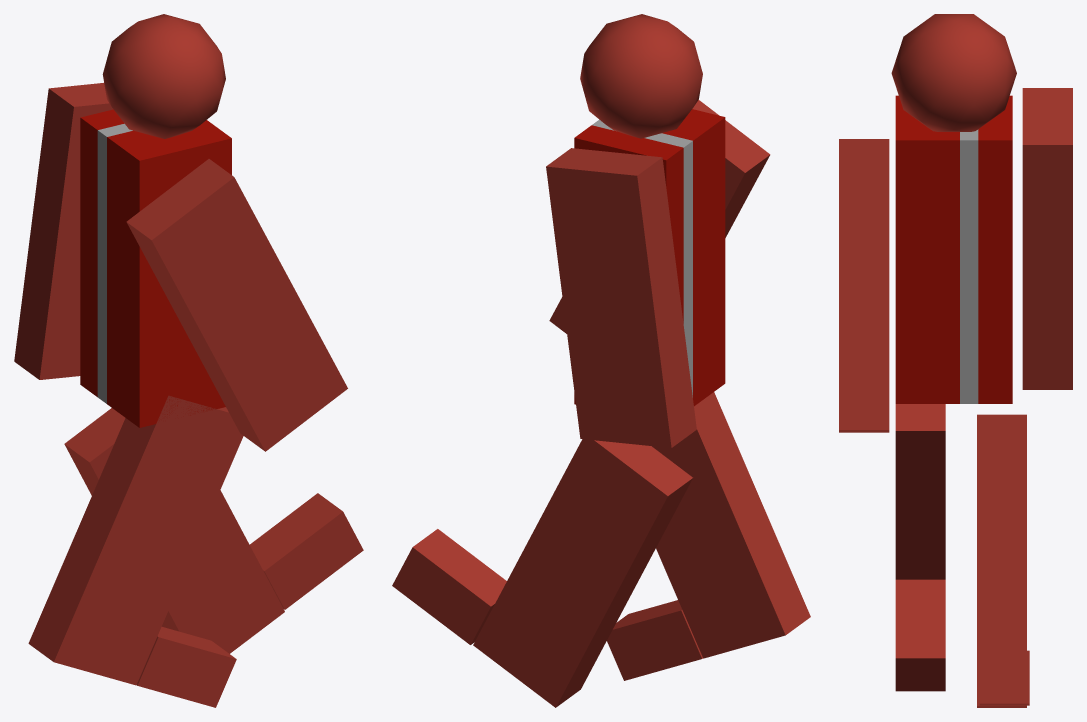
The model's file is player_000061.obj.
The picture shows the model from 3 angles, left to right: view 1: azimuth 30°, elevation 25°; view 2: azimuth 150°, elevation 25°; view 3: azimuth 270°, elevation 25°; orthographic projection.
Visible parts, largest first — view 1: Cube.010, Cube.013, Cube.007, Cube.012, Cube.008, Icosphere.001, Cube.009, Cube.011; view 2: Cube.012, Cube.008, Cube.010, Cube.007, Icosphere.001, Cube.009, Cube.011, Cube.013; view 3: Cube.007, Cube.012, Cube.013, Cube.008, Icosphere.001, Cube.010, Cube.011, Cube.009.
Boxes of the visible parts, x1,y1,x2,y2 form: Cube.010: (28, 395, 243, 685); Cube.013: (126, 159, 347, 451); Cube.007: (80, 109, 231, 427); Cube.012: (14, 83, 113, 379); Cube.008: (64, 408, 284, 653); Icosphere.001: (102, 14, 225, 138); Cube.009: (250, 493, 363, 609); Cube.011: (136, 627, 236, 707); Cube.012: (546, 148, 696, 447); Cube.008: (473, 439, 692, 707); Cube.010: (652, 392, 810, 658); Cube.007: (574, 109, 725, 406); Icosphere.001: (580, 14, 702, 138); Cube.009: (392, 529, 506, 644); Cube.011: (607, 600, 702, 680); Cube.013: (549, 99, 770, 333); Cube.007: (895, 95, 1012, 403); Cube.012: (1022, 88, 1072, 389); Cube.013: (839, 139, 889, 432); Cube.008: (977, 414, 1026, 707); Icosphere.001: (891, 14, 1016, 131); Cube.010: (895, 404, 945, 579); Cube.011: (895, 579, 945, 691); Cube.009: (979, 650, 1029, 705).
Size of the model in its own units: 1.57 by 2.88 by 0.9137.
